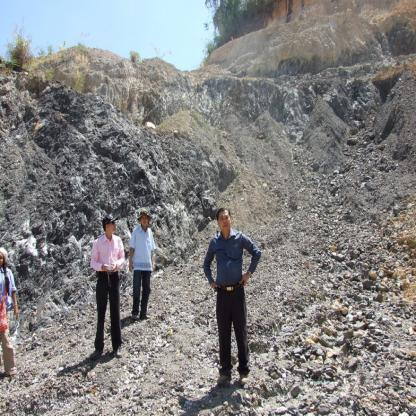person: (202, 207, 260, 392), (90, 206, 130, 360), (127, 202, 158, 322), (0, 235, 17, 378)
